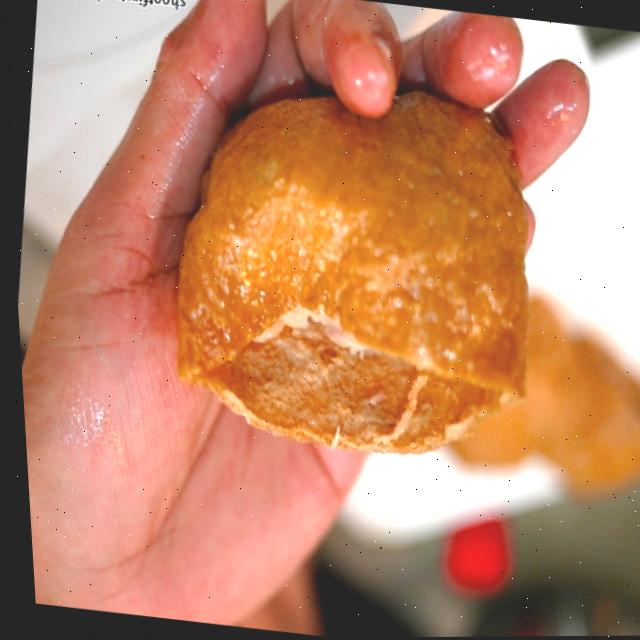寿司卷物: (106, 57, 588, 522)
